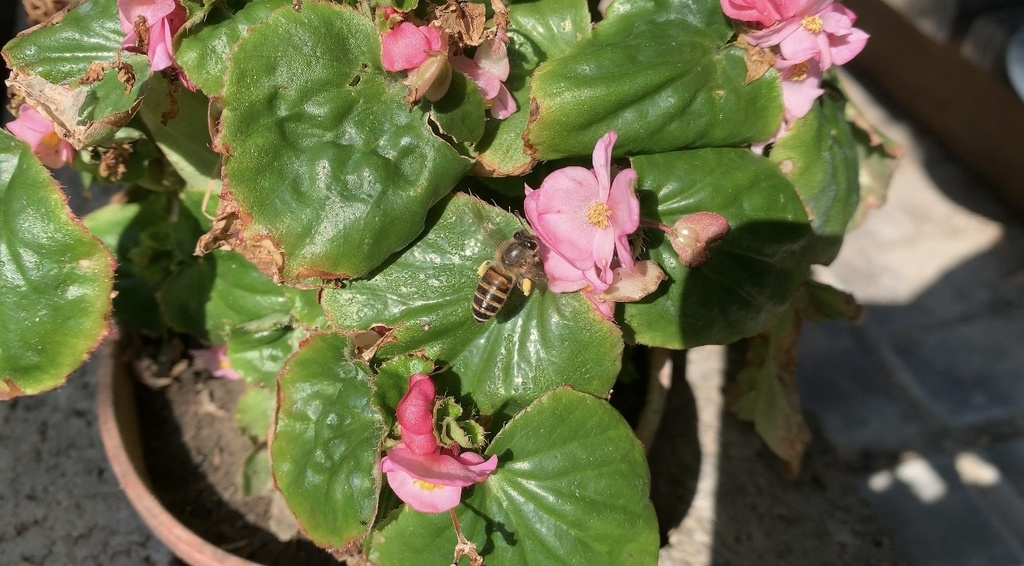not_bumblebee: (471, 229, 543, 325)
